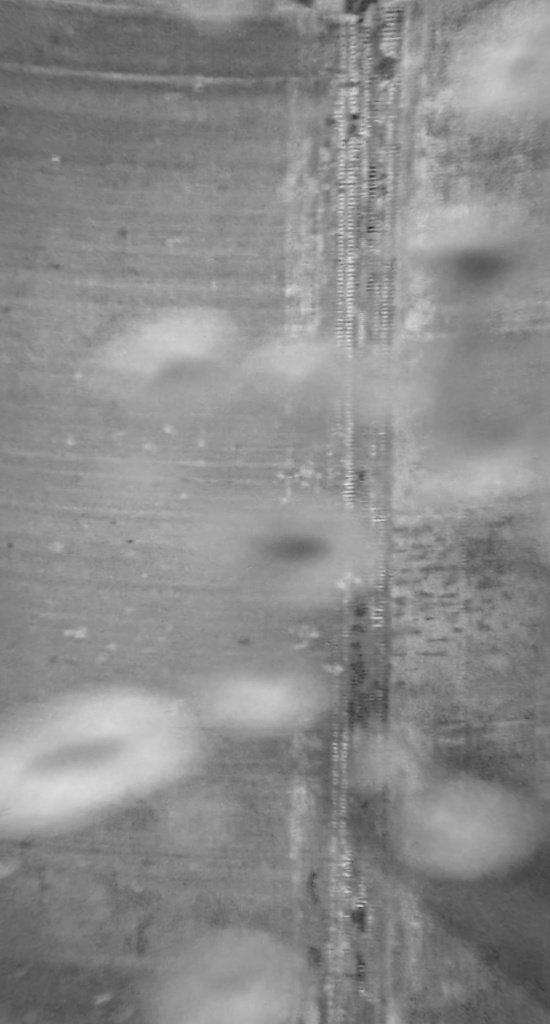splice: (313, 1, 400, 1024)
